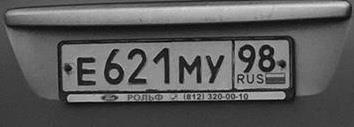license-plateSW: (58, 38, 296, 92)
